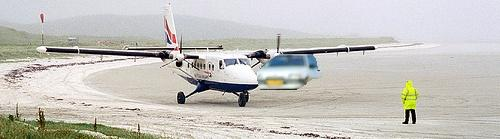tampered: (258, 55, 322, 90)
